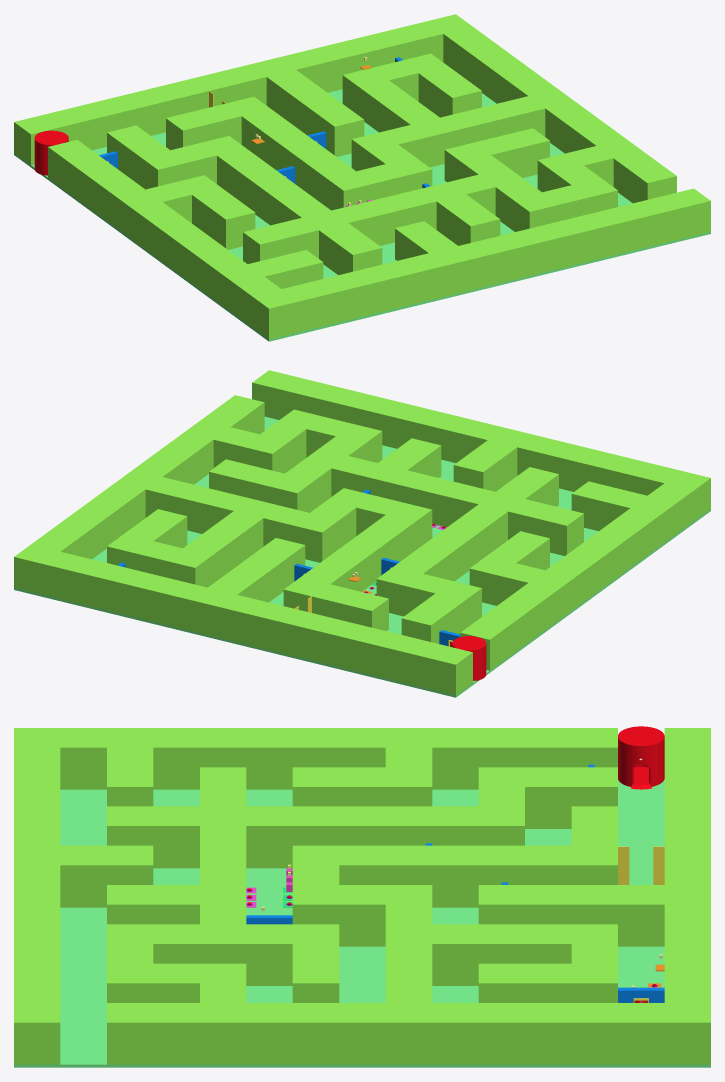
The model's file is labirint.gltf.
3 views of the same model, one above another, from view 1: azimuth 30°, elevation 25°; view 2: azimuth 150°, elevation 25°; view 3: azimuth 270°, elevation 25° (orthographic). The views are drawn at different scales.
Visible parts, largest first — view 1: stena03, stena01, stena04, stena02, stena05, stena16, stena17, stena27, stena20, tla, stena21, stena25 (+19 smaller); view 2: stena01, stena03, stena04, stena02, stena05, stena16, stena17, stena27, stena21, tla, stena20, stena25 (+19 smaller); view 3: stena02, tla, stena04, stena01, stena03, stena17, stena27, stena05, stena20, stena21, stena25, stena16 (+19 smaller).
Boxes of the visible parts, x1,y1,x2,y2 form: stena03: (282, 188, 710, 332); stena01: (14, 14, 472, 165); stena04: (48, 139, 298, 339); stena02: (443, 26, 676, 203); stena05: (243, 167, 524, 263); stena16: (351, 96, 545, 171); stena17: (225, 96, 355, 206); stena27: (217, 148, 330, 225); stena20: (266, 70, 364, 156); tla: (14, 89, 710, 341); stena21: (342, 68, 439, 132); stena25: (107, 125, 187, 189); stena01: (14, 544, 472, 695); stena03: (252, 370, 681, 495); stena04: (460, 471, 710, 670); stena02: (31, 395, 264, 559); stena05: (302, 449, 583, 555); stena16: (145, 477, 339, 562); stena17: (283, 515, 415, 613); stena27: (394, 504, 507, 581); stena21: (166, 511, 263, 587); tla: (14, 416, 710, 697); stena20: (208, 538, 305, 602); stena25: (401, 581, 481, 643); stena02: (107, 1003, 664, 1064); tla: (14, 779, 710, 1067); stena04: (14, 728, 617, 789); stena01: (664, 728, 710, 1064); stena03: (14, 747, 60, 1064); stena17: (339, 845, 617, 907); stena27: (246, 806, 478, 868); stena05: (200, 767, 246, 963); stena20: (478, 885, 664, 946); stena21: (432, 924, 617, 985); stena25: (478, 767, 617, 828); stena16: (385, 885, 432, 1002).
Size of the model in its own units: 211 by 24.97 by 210.
14 materials, 14 textured.
